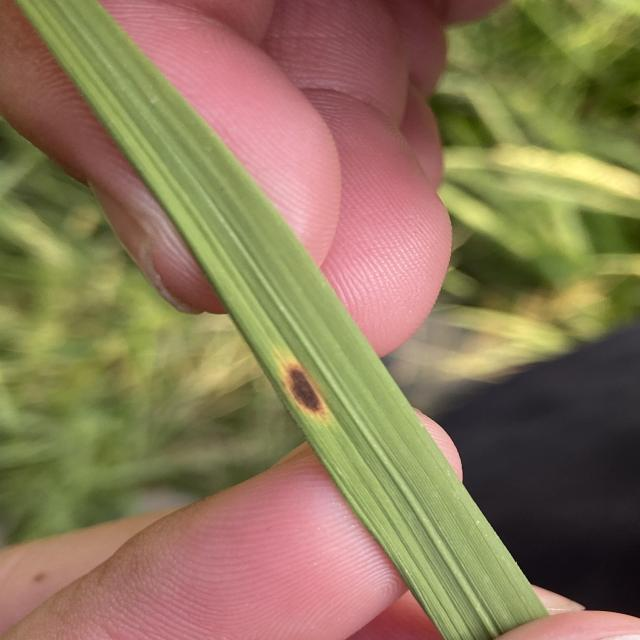Dom nau: (289, 368, 321, 412)
